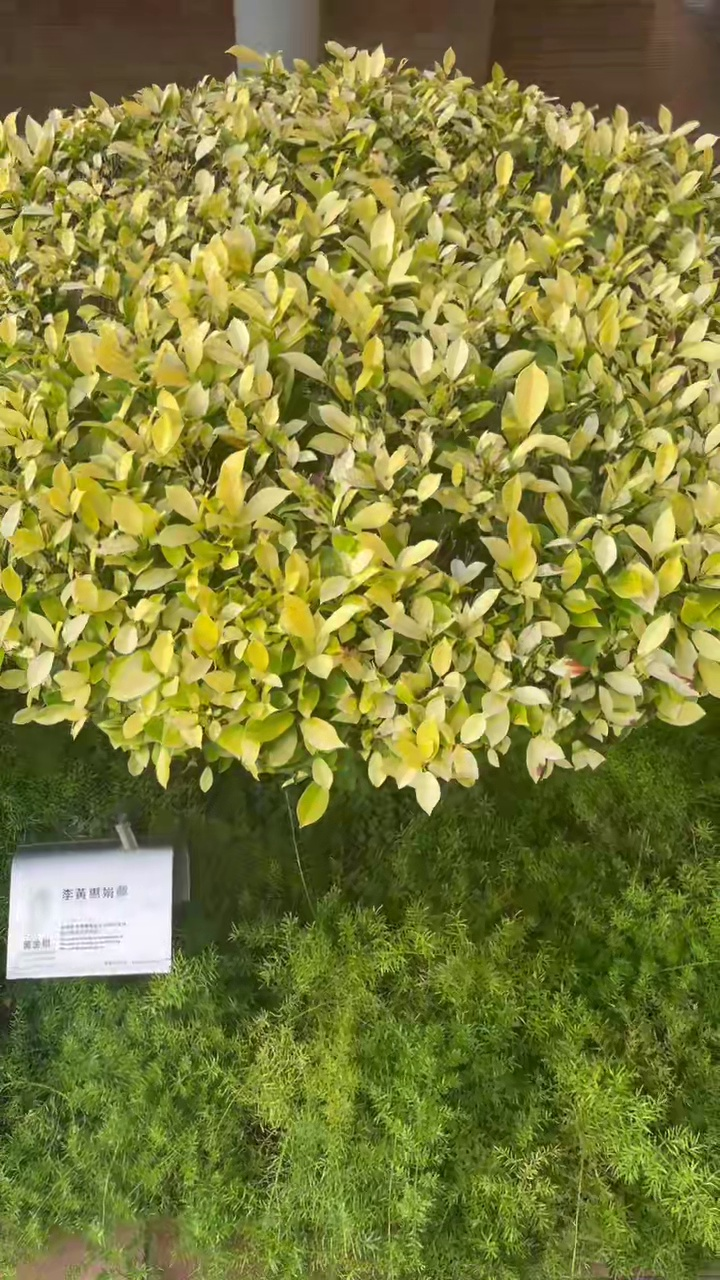Golden-leaves Fig: (0, 45, 719, 826)
